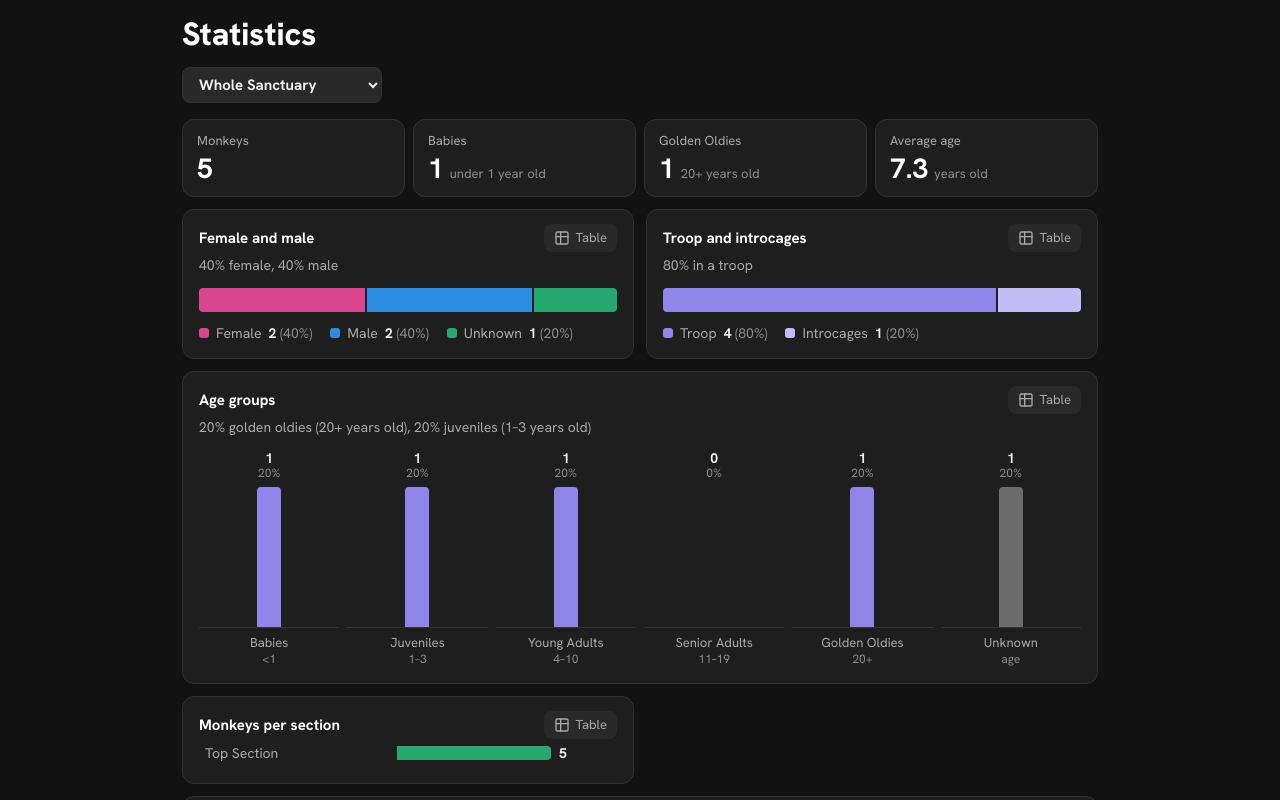
Scenario: the page › the Bandits: at the bottom, on their own (not in the sanctuary's figures)
Select "Bandits" in the dropdown named "Show statistics for" at (282, 85), box x1=182 y1=67 x2=382 y2=103
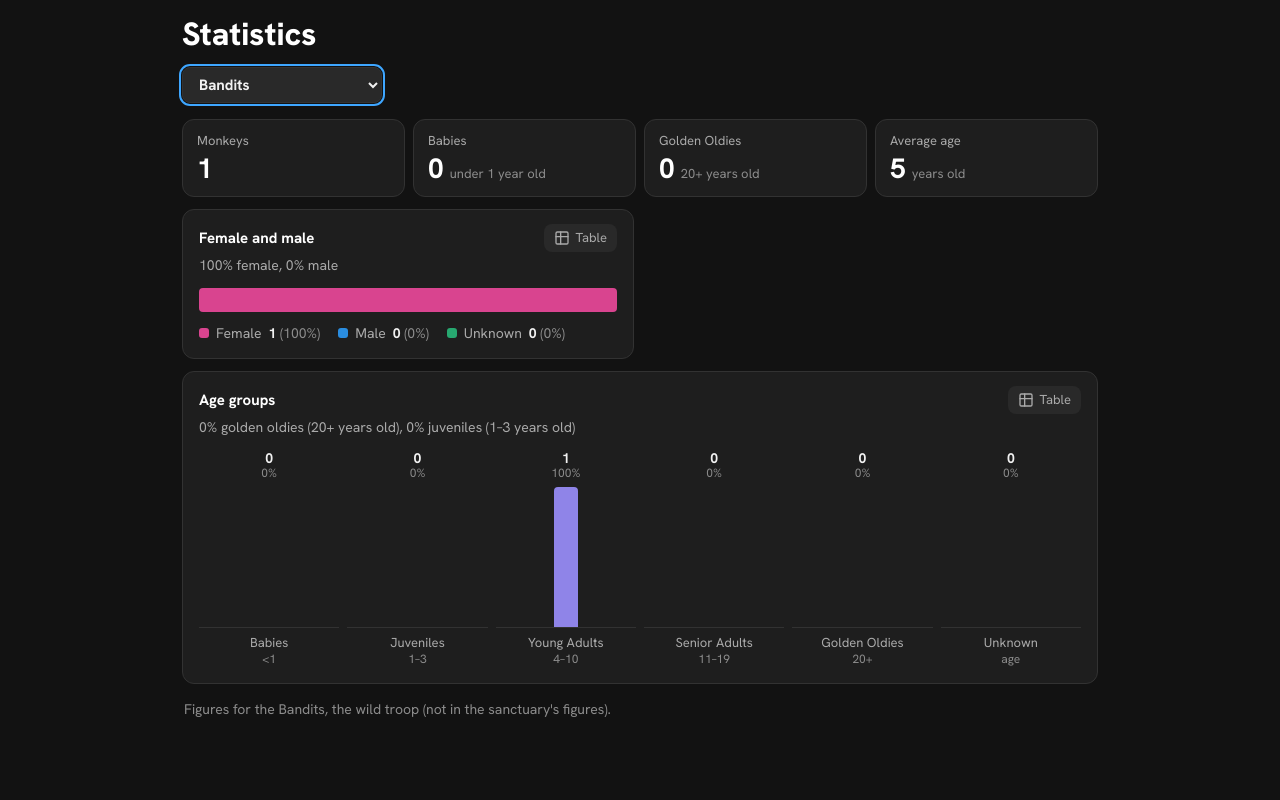
Expected: the text "Monkeys" shows "1", x1=197 y1=150 x2=213 y2=186
Expected: the heading "Troop and introcages" is gone
Expected: the text "Figures for the Bandits" is shown, x1=184 y1=700 x2=611 y2=718
